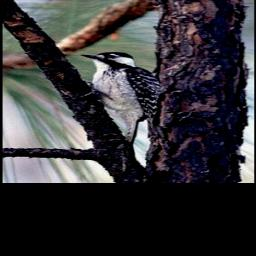Woodpecker: (78, 51, 163, 146)
